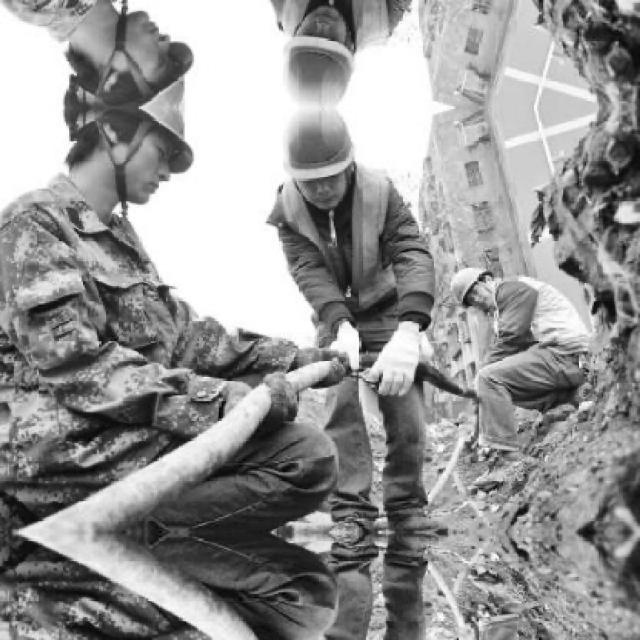helmet: (63, 106, 203, 217), (63, 0, 205, 108), (274, 0, 358, 108), (276, 106, 358, 214), (452, 263, 500, 311)
